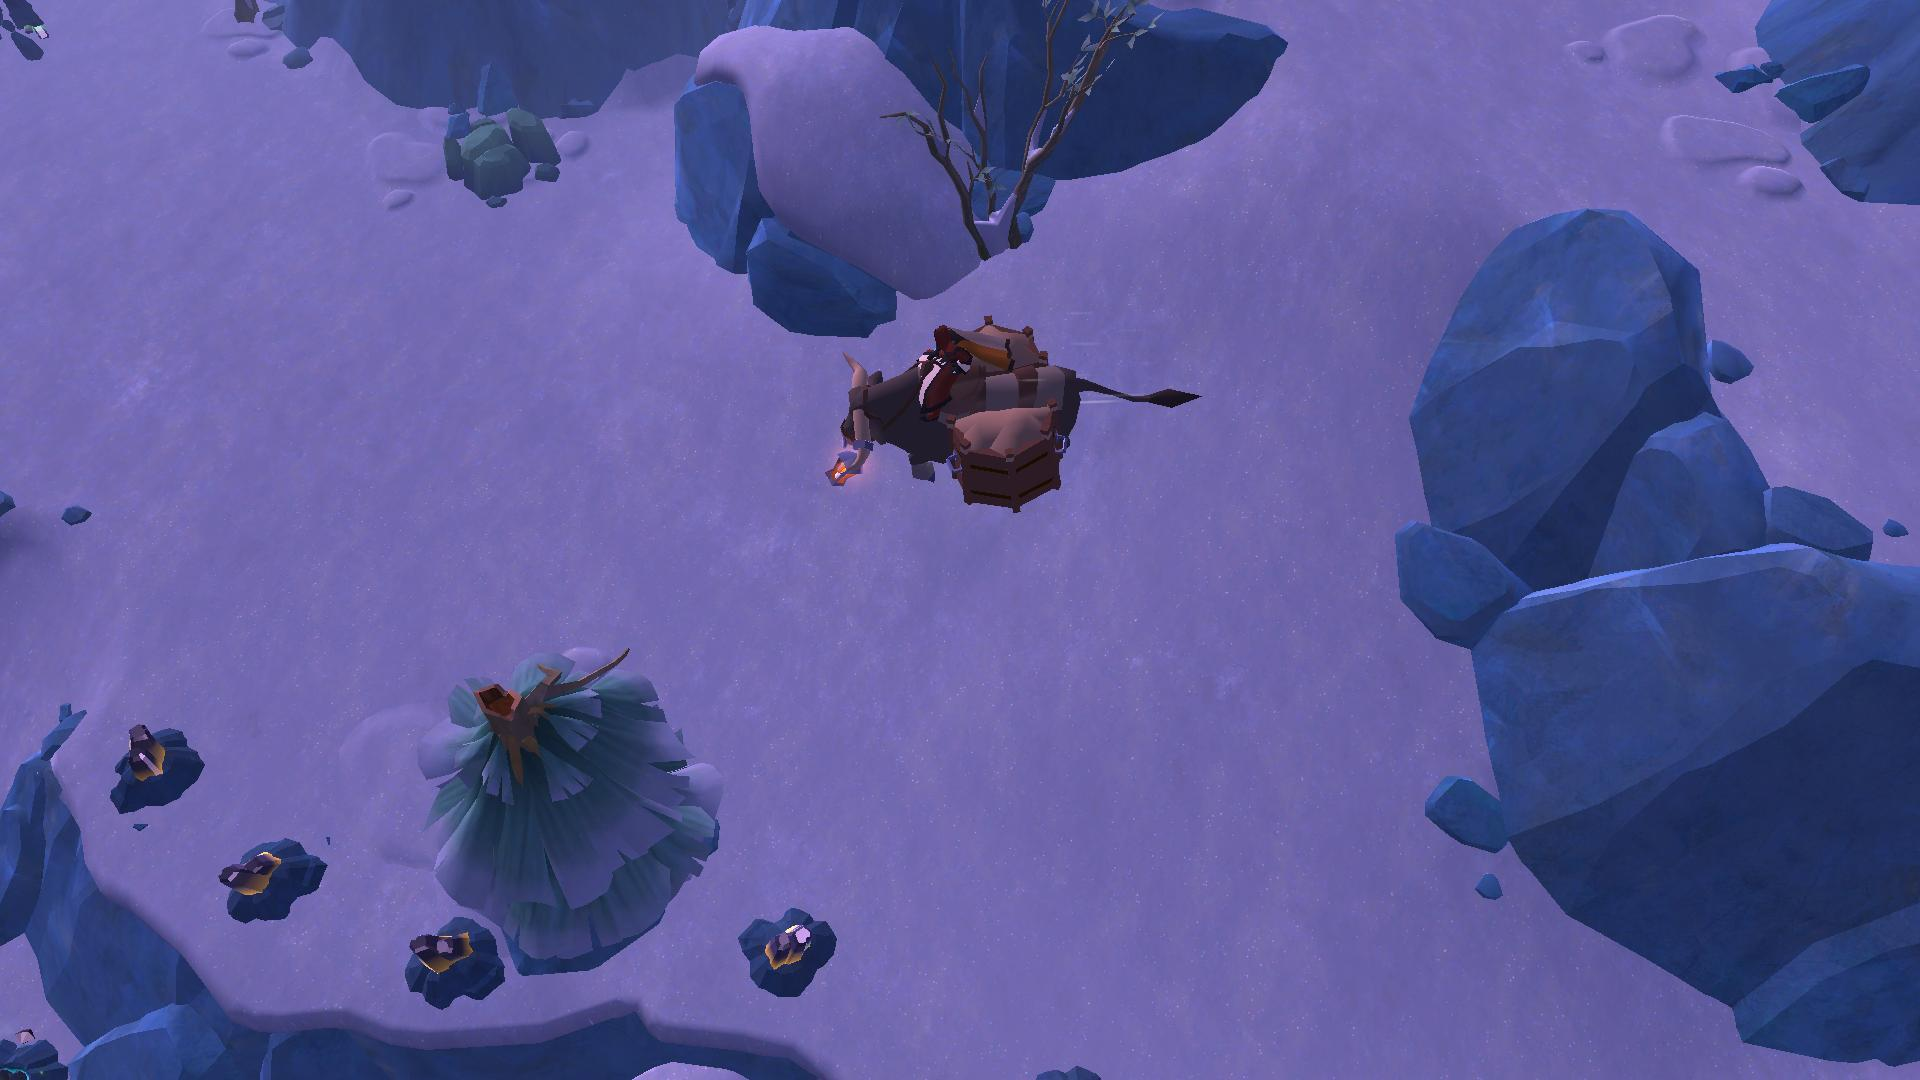rock_t3: (439, 95, 566, 206)
